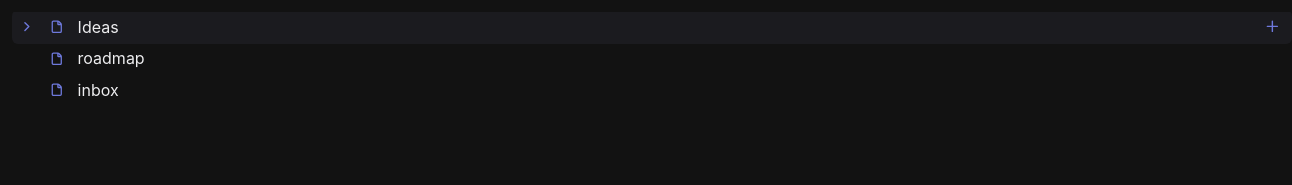
Scenario: a row context menu › opens where the click was, and takes the gesture from the OS
The width and height of the screenshot is (1292, 185).
Step 1. Right-click the button "roadmap" → (111, 58), box [12,44,1257,73]
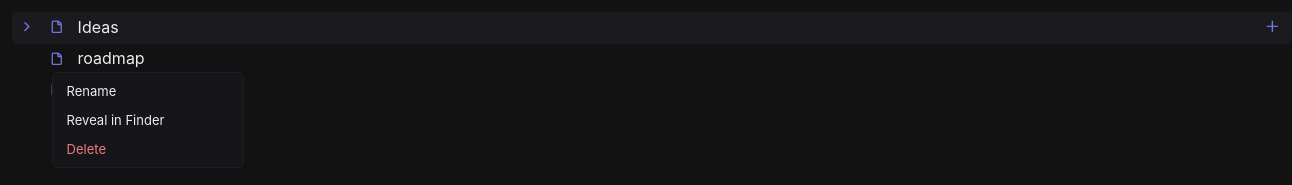
Now the button "Rename" is shown, box [57,77,239,106]
Now the button "Delete" is shown, box [57,135,239,163]
